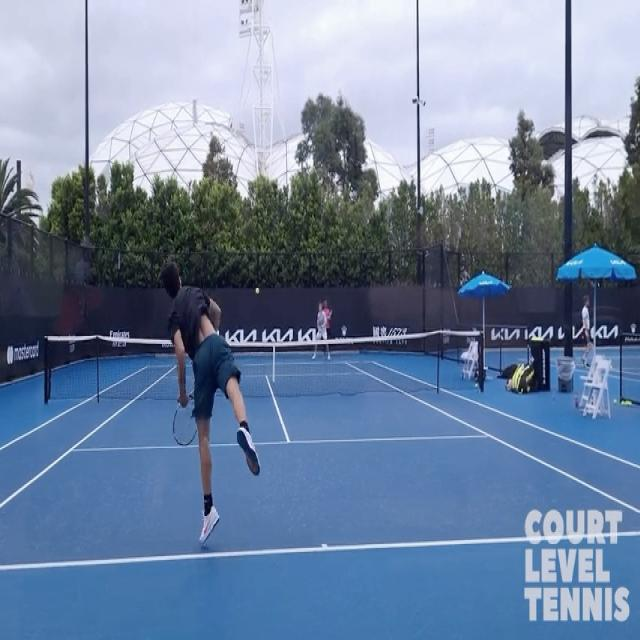serve_followthrough: (163, 240, 259, 542)
